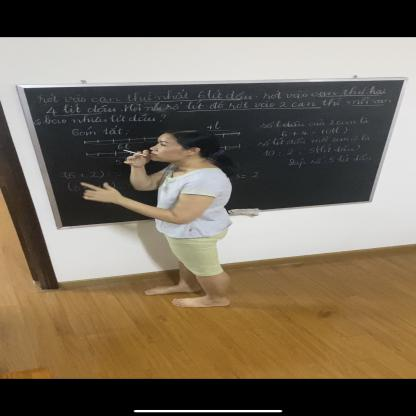cigarette: (122, 150, 146, 157)
person: (85, 126, 239, 316)
